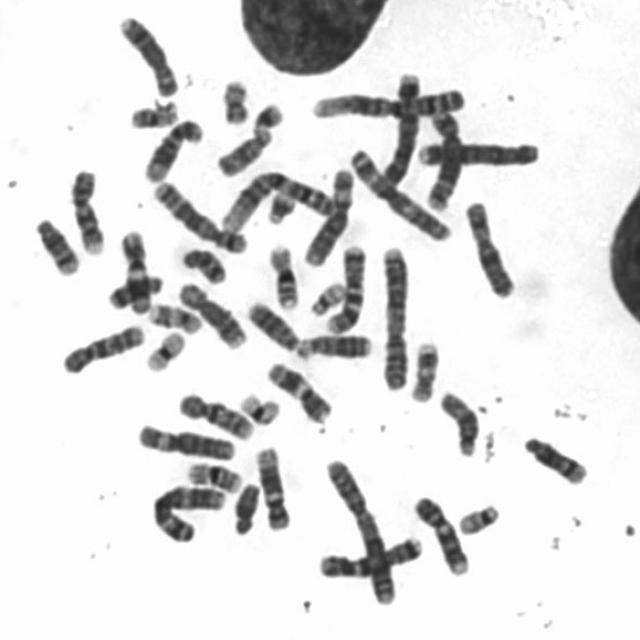A1: (216, 162, 340, 233), (307, 80, 469, 122)
A2: (320, 452, 400, 608), (375, 238, 413, 392)
A3: (344, 141, 454, 242), (146, 477, 229, 545)
B4: (374, 63, 423, 188), (411, 132, 543, 168)
B5: (147, 174, 250, 255), (419, 104, 466, 211)
C10: (56, 316, 147, 376), (172, 385, 258, 442)
C11: (261, 355, 335, 424), (115, 223, 154, 315)
C12: (138, 111, 206, 183), (250, 440, 294, 532)
C6: (297, 160, 356, 267), (130, 416, 238, 463)
C7: (312, 527, 426, 580), (322, 238, 369, 334)
C8: (113, 8, 181, 97), (171, 274, 250, 350)
C9: (408, 488, 472, 576), (64, 162, 108, 256)
D13: (241, 294, 304, 353), (290, 326, 374, 361)
D14: (518, 429, 592, 486), (29, 210, 83, 276)
D15: (434, 383, 483, 458), (210, 123, 274, 179)
E16: (262, 236, 303, 311), (180, 456, 246, 494)
E17: (405, 334, 442, 404), (143, 296, 205, 336)
E18: (103, 266, 167, 312), (176, 241, 229, 285)
F19: (139, 324, 188, 374), (233, 386, 283, 428)
F20: (124, 93, 181, 130), (216, 71, 252, 127)
G21: (260, 183, 300, 226), (248, 95, 286, 133)
G22: (453, 496, 504, 537), (304, 274, 348, 316)
X: (458, 193, 520, 300)
